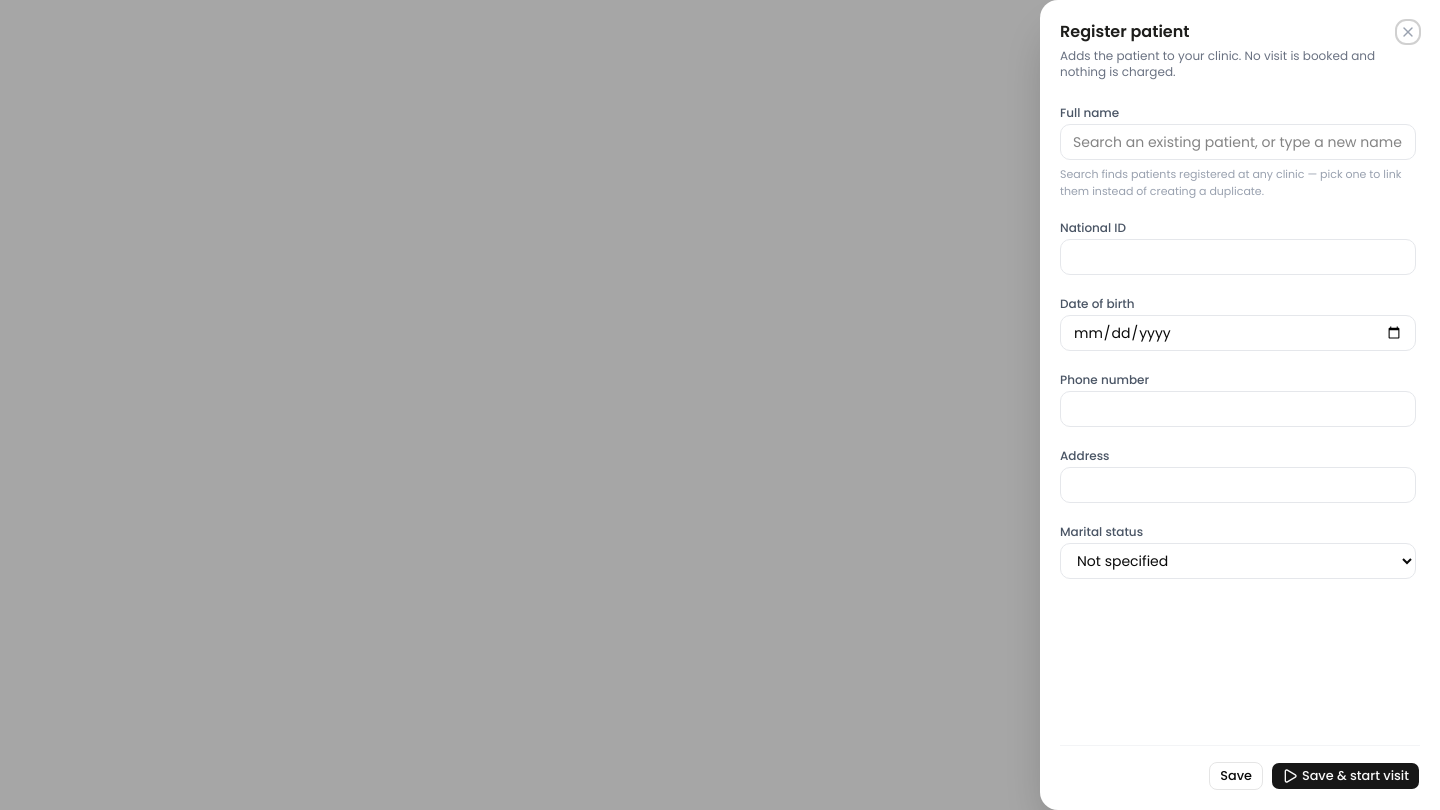
Scenario: RegisterPatientDrawer › search-first name field › prefills and locks identity when an existing patient is picked
Type "Mona" into the dropdown labelled "Full name". click: x=1238, y=142
box: [1060,124,1416,160]
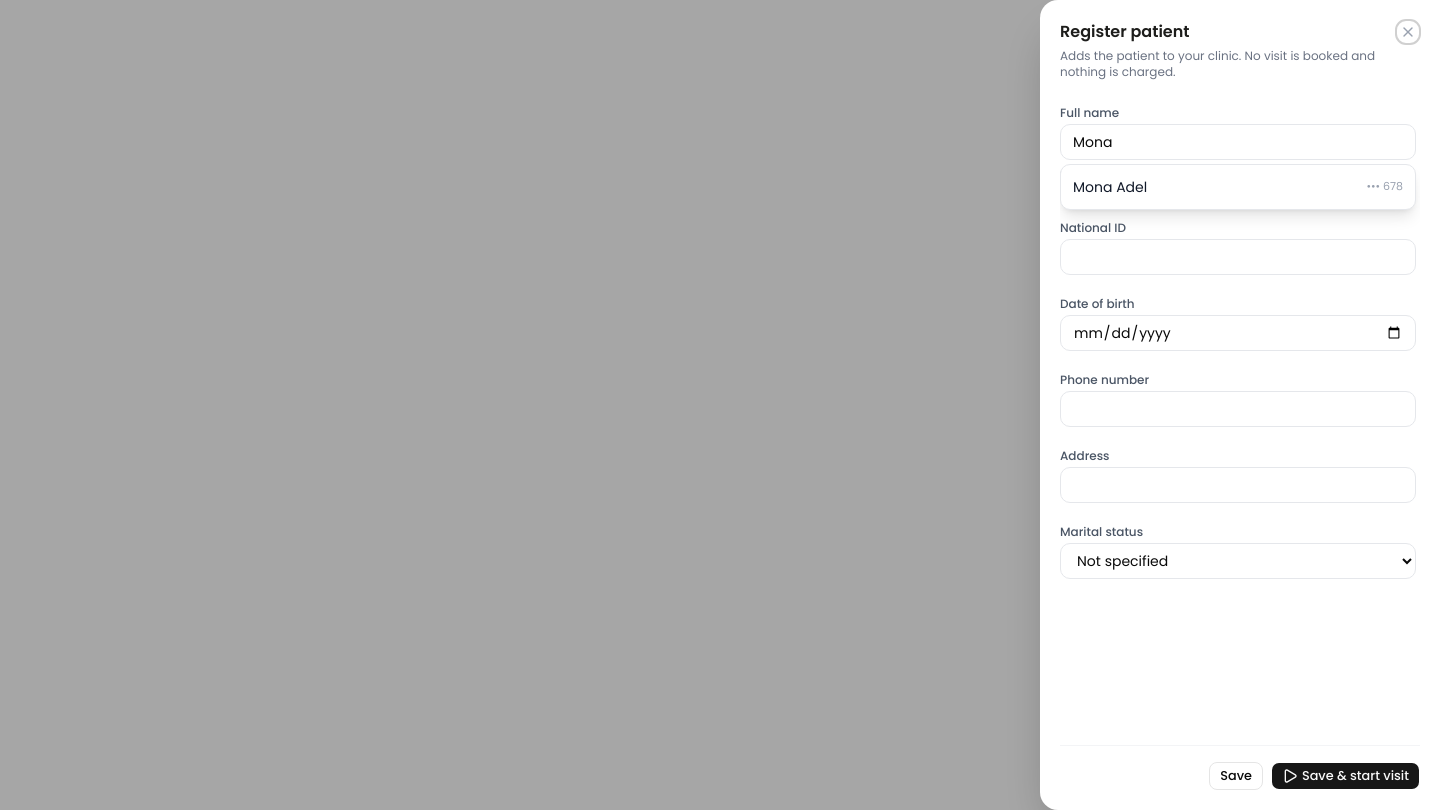
Press the mouse on the button "Mona Adel ••• 678" at x=1110, y=187, box [1061,169,1415,205]
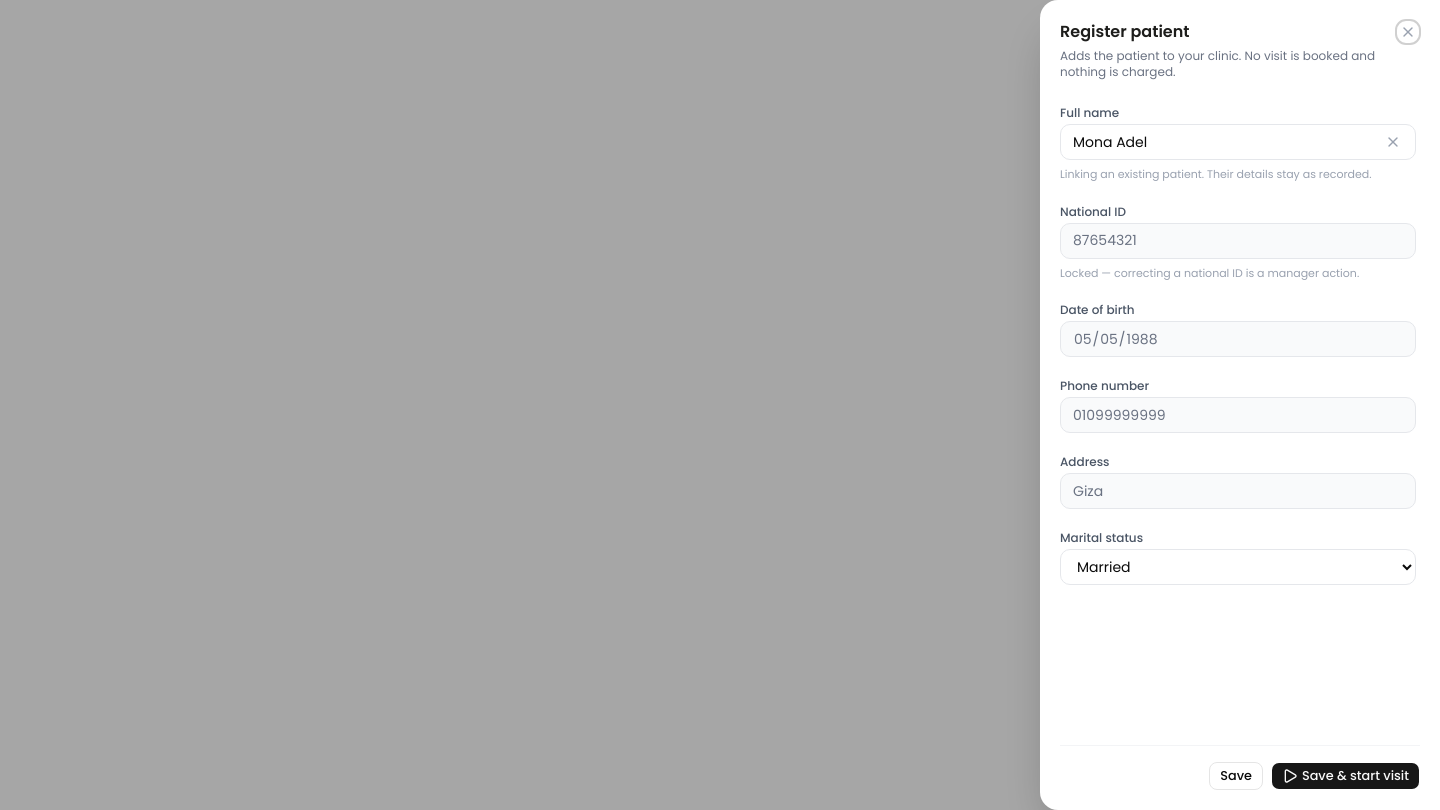
Check: the field labelled "National ID" holds "87654321", box [1060,222,1416,258]
Check: the field labelled "National ID" is disabled, box [1060,222,1416,258]
Check: the field labelled "Address" holds "Giza", box [1060,473,1416,509]
